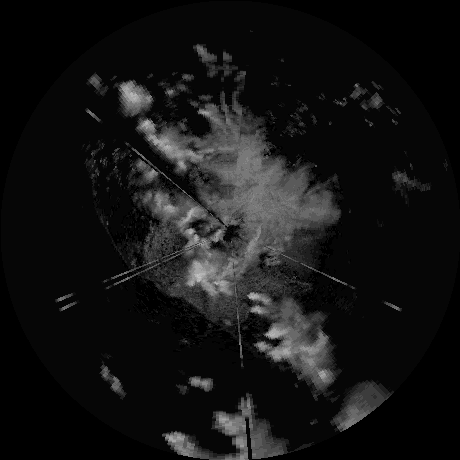frontgust: (88, 171, 133, 267)
